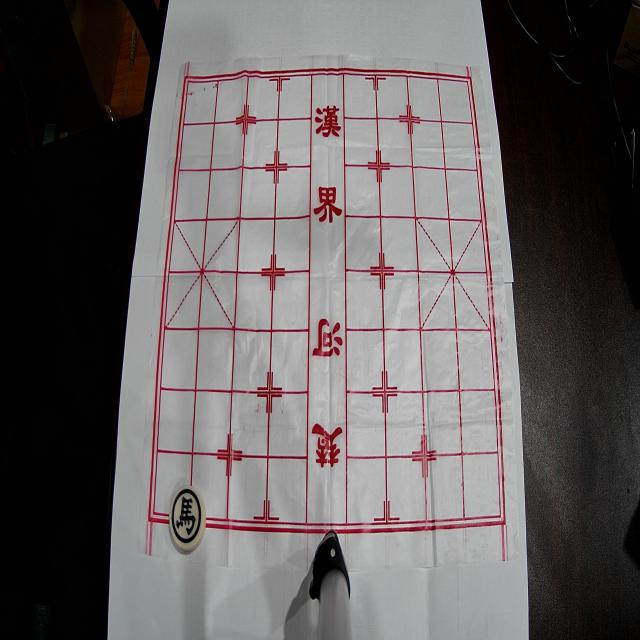black-horse: (169, 485, 206, 551)
